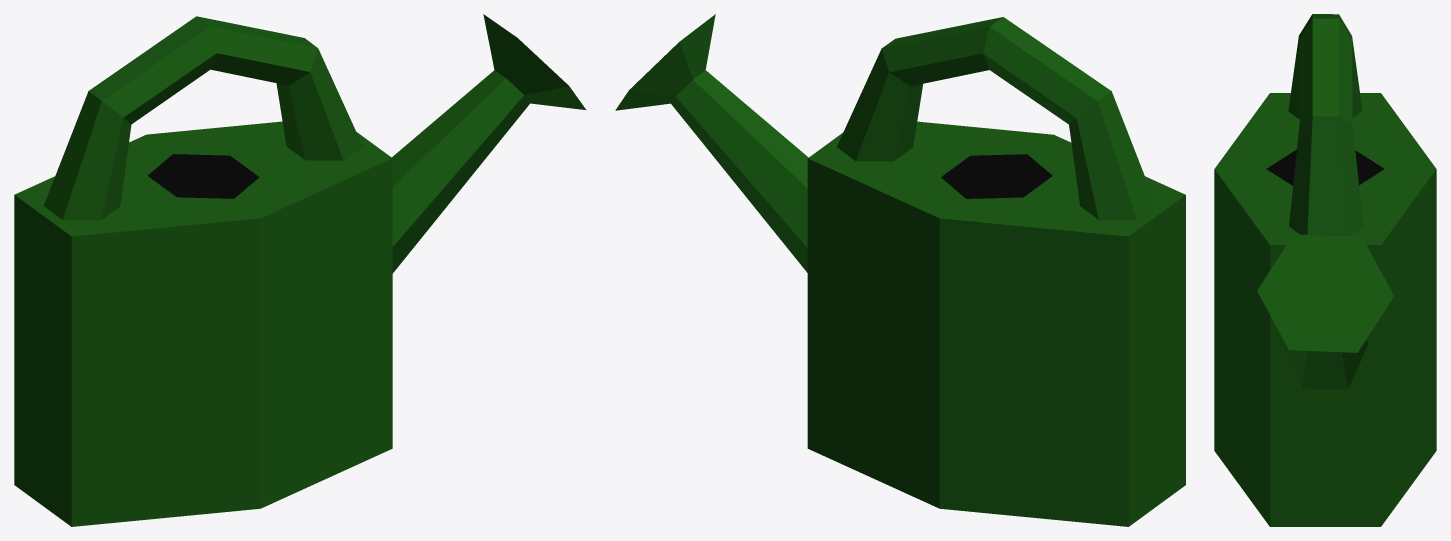
The model's file is Tool_Arrosoir.glb.
3 views of the same model, side by side, from view 1: azimuth 30°, elevation 25°; view 2: azimuth 150°, elevation 25°; view 3: azimuth 270°, elevation 25° (orthographic). The views are drawn at different scales.
Parts seen in each view (by area): view 1: Arrosoir; view 2: Arrosoir; view 3: Arrosoir.
Part boxes in pixels (x1,y1,x2,y2): Arrosoir: [14, 14, 586, 526]; Arrosoir: [615, 14, 1185, 526]; Arrosoir: [1214, 14, 1436, 526].
Size of the model in its own units: 3.79 by 3.07 by 1.43.
